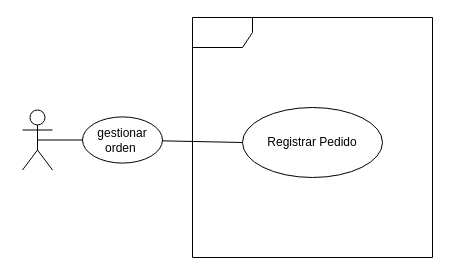
Some shapes in this 450 by 275 pixel diagram are drawn without their labels. Each missing label, with the box of its shape:
Mesero: (22, 109, 52, 170)
Sistema: (192, 16, 432, 258)
